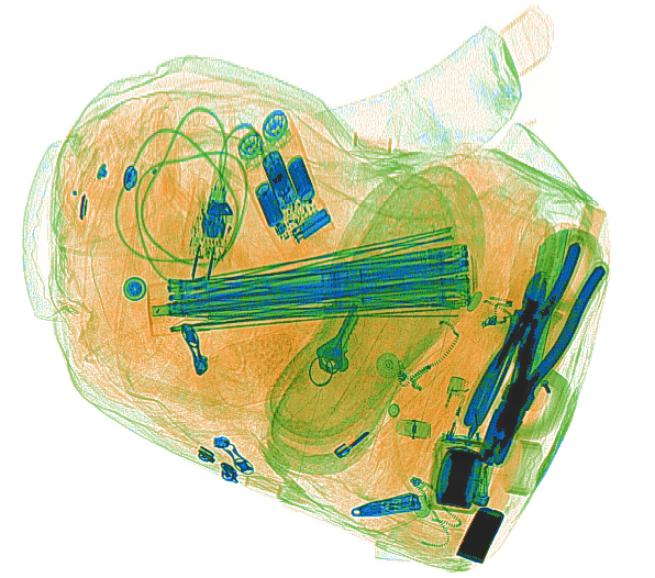battery: (284, 152, 315, 205), (254, 179, 284, 228)
knife: (505, 220, 575, 415)
lighter: (419, 373, 470, 460)
